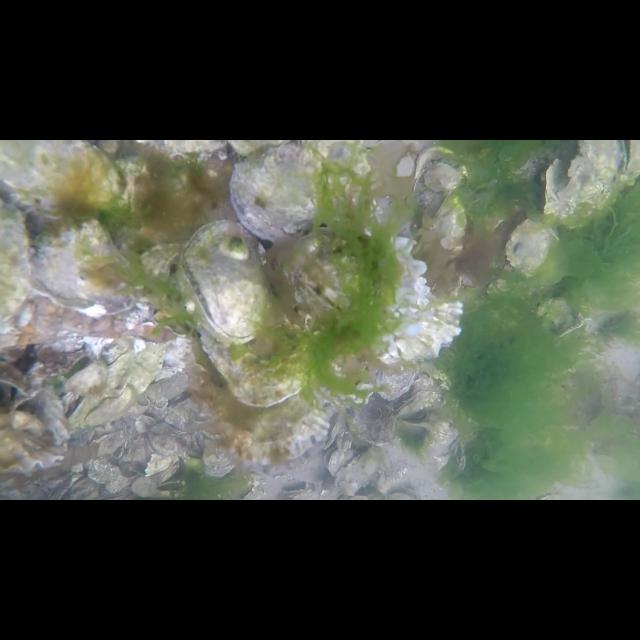Oyster-Closed: (280, 236, 462, 364), (207, 355, 331, 465), (199, 296, 311, 408), (32, 220, 144, 314), (70, 342, 166, 428), (0, 140, 120, 206), (542, 140, 620, 218), (412, 146, 464, 204), (505, 218, 555, 278), (346, 392, 396, 446), (1, 432, 64, 472), (428, 192, 468, 254), (334, 449, 384, 493), (374, 359, 416, 399), (202, 436, 236, 478), (325, 409, 347, 447)
Oyster-Open: (230, 140, 366, 242), (178, 218, 274, 346), (324, 445, 358, 477), (394, 391, 428, 422), (619, 140, 640, 176), (398, 412, 434, 428)
